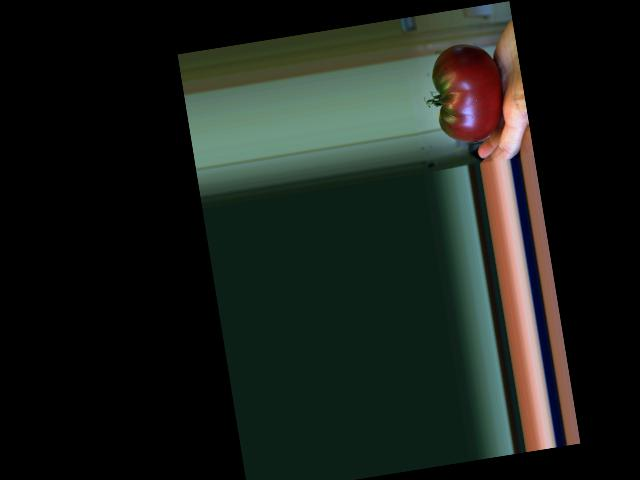tomato: (427, 38, 510, 146)
